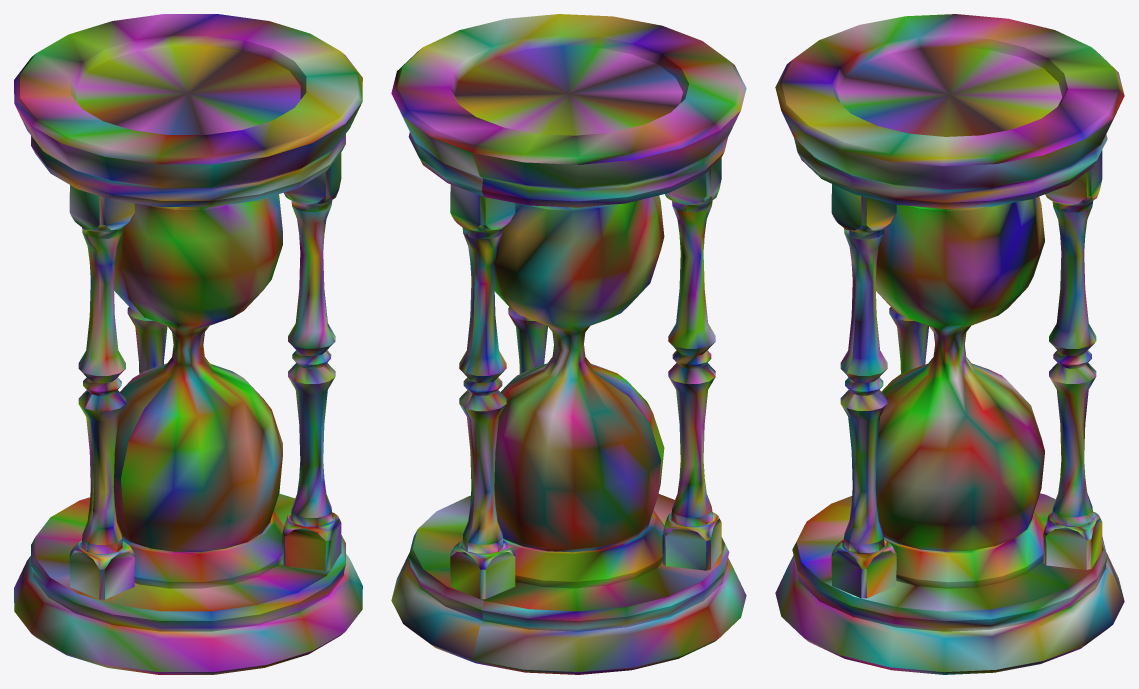
File: Hourglass.fbx
The picture shows the model from 3 angles, left to right: view 1: azimuth 30°, elevation 25°; view 2: azimuth 150°, elevation 25°; view 3: azimuth 270°, elevation 25°; orthographic projection.
Parts seen in each view (by area): view 1: Hourglass; view 2: Hourglass; view 3: Hourglass.
Part boxes in pixels (box(x1,y1,x2,y2)): Hourglass: box(14, 14, 362, 674); Hourglass: box(391, 14, 746, 674); Hourglass: box(775, 14, 1124, 674).
Size of the model in its own units: 49.13 by 79.03 by 48.46.
